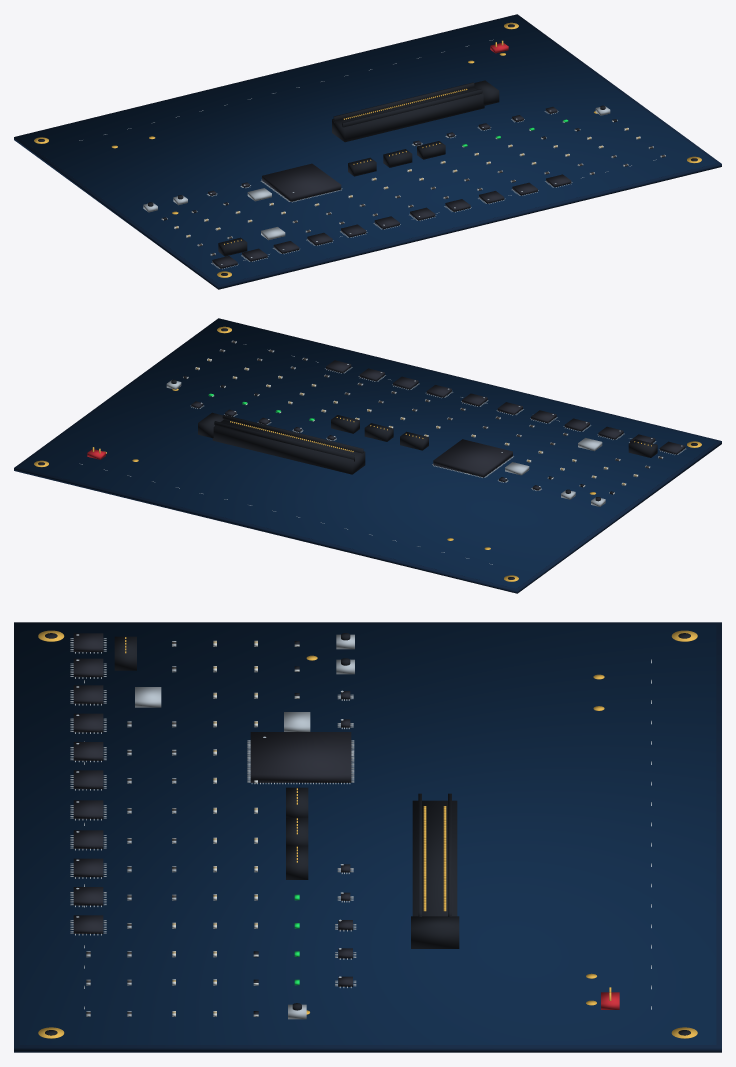
The model's file is 129_L105_AssembledMainboardReference.fbx.
3 views of the same model, one above another, from view 1: azimuth 30°, elevation 25°; view 2: azimuth 150°, elevation 25°; view 3: azimuth 270°, elevation 25° (orthographic). The views are drawn at different scales.
Visible parts, largest first — view 1: L105_ENX13_Assembled_mask, L105_ENX13_Assembled_black, L105_ENX13_Assembled_pcb, L105_ENX13_Assembled_chip, L105_ENX13_Assembled_silver, L105_ENX13_Assembled_gold; view 2: L105_ENX13_Assembled_mask, L105_ENX13_Assembled_black, L105_ENX13_Assembled_pcb, L105_ENX13_Assembled_chip, L105_ENX13_Assembled_silver, L105_ENX13_Assembled_gold; view 3: L105_ENX13_Assembled_mask, L105_ENX13_Assembled_pcb, L105_ENX13_Assembled_chip, L105_ENX13_Assembled_black, L105_ENX13_Assembled_silver, L105_ENX13_Assembled_gold, L105_ENX13_Assembled_tin.
Boxes of the visible parts, x1,y1,x2,y2 form: L105_ENX13_Assembled_mask: [18, 16, 717, 284]; L105_ENX13_Assembled_black: [38, 24, 697, 275]; L105_ENX13_Assembled_pcb: [14, 14, 721, 289]; L105_ENX13_Assembled_chip: [208, 107, 571, 268]; L105_ENX13_Assembled_silver: [143, 106, 665, 269]; L105_ENX13_Assembled_gold: [34, 22, 701, 277]; L105_ENX13_Assembled_mask: [18, 320, 717, 588]; L105_ENX13_Assembled_black: [38, 328, 697, 579]; L105_ENX13_Assembled_pcb: [14, 318, 721, 593]; L105_ENX13_Assembled_chip: [191, 360, 685, 490]; L105_ENX13_Assembled_silver: [166, 340, 685, 506]; L105_ENX13_Assembled_gold: [34, 326, 701, 581]; L105_ENX13_Assembled_mask: [19, 624, 716, 1044]; L105_ENX13_Assembled_pcb: [14, 622, 721, 1052]; L105_ENX13_Assembled_chip: [73, 633, 352, 986]; L105_ENX13_Assembled_black: [45, 633, 690, 1035]; L105_ENX13_Assembled_silver: [70, 634, 356, 1019]; L105_ENX13_Assembled_gold: [38, 630, 697, 1038]; L105_ENX13_Assembled_tin: [172, 640, 299, 1016].
Bounding box in the file's own units: 0.27 × 0.0111 × 0.19.
